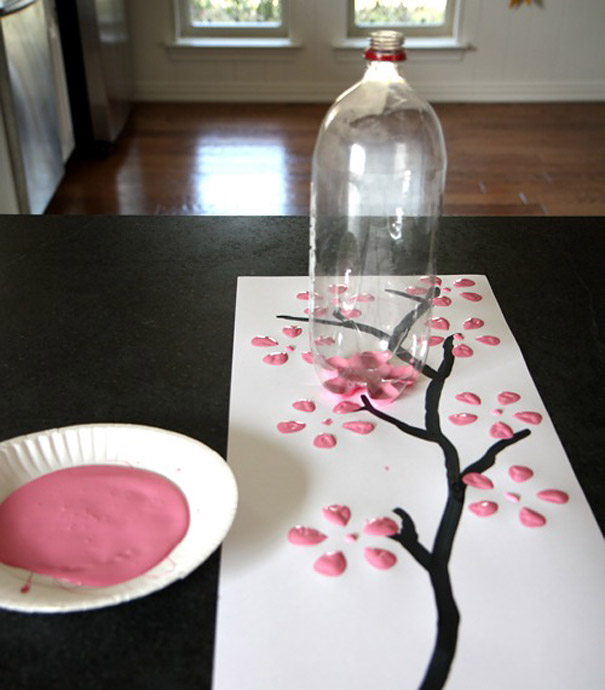plastic_bottle: (267, 11, 572, 426)
